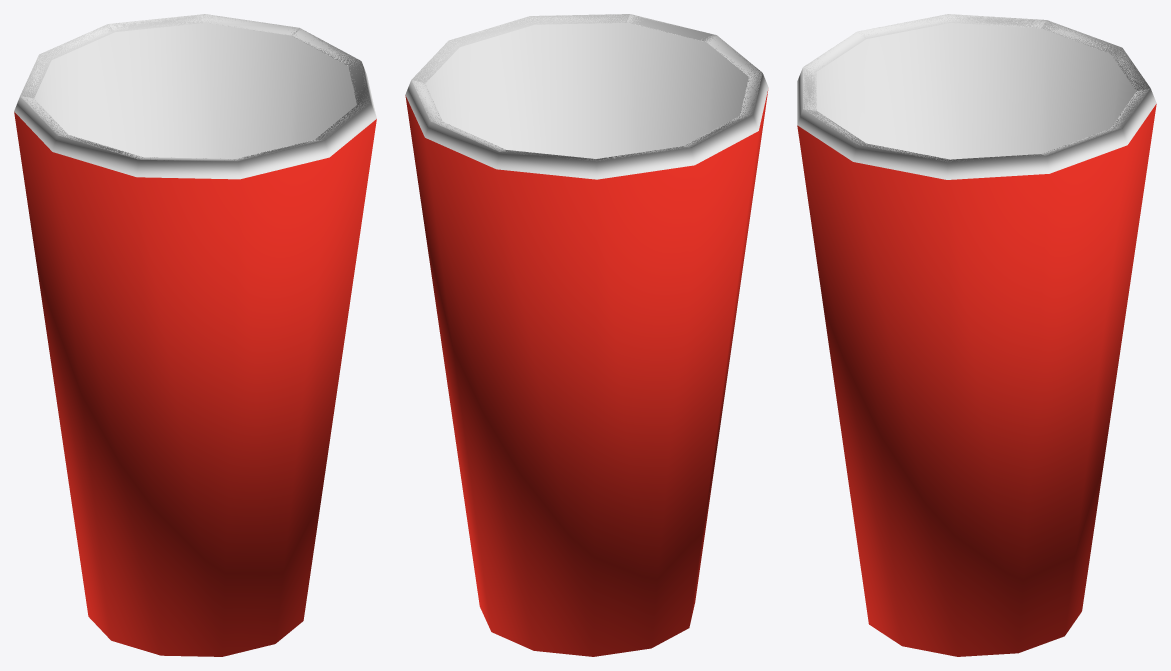
Rendered from BeerPongCup.fbx.
3 renders of one model, left to right at view 1: azimuth 30°, elevation 25°; view 2: azimuth 150°, elevation 25°; view 3: azimuth 270°, elevation 25°, orthographic.
Visible parts, largest first — view 1: Cube; view 2: Cube; view 3: Cube.
Boxes of the visible parts, <box> form: Cube: <box>14,14,376,656</box>; Cube: <box>405,14,768,656</box>; Cube: <box>797,14,1156,656</box>.
Size of the model in its own units: 334 by 531 by 330.
